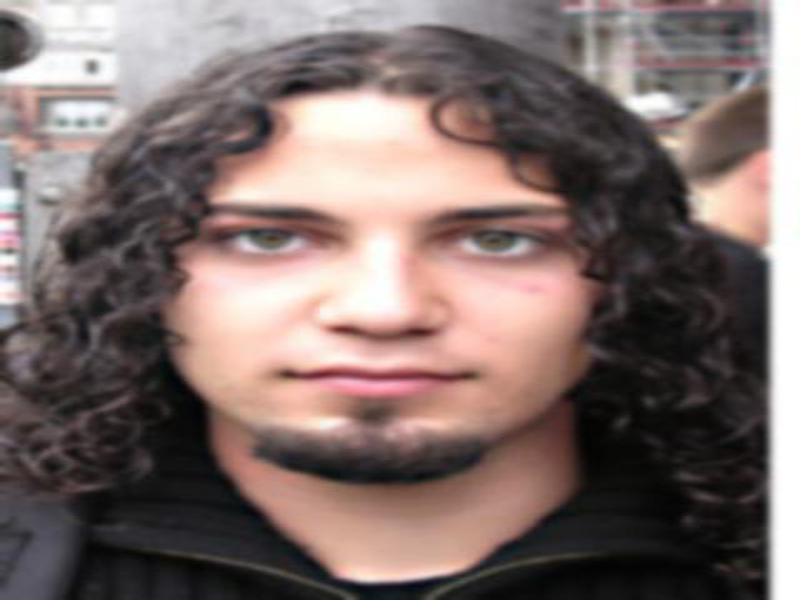without_mask: (151, 82, 610, 489)
